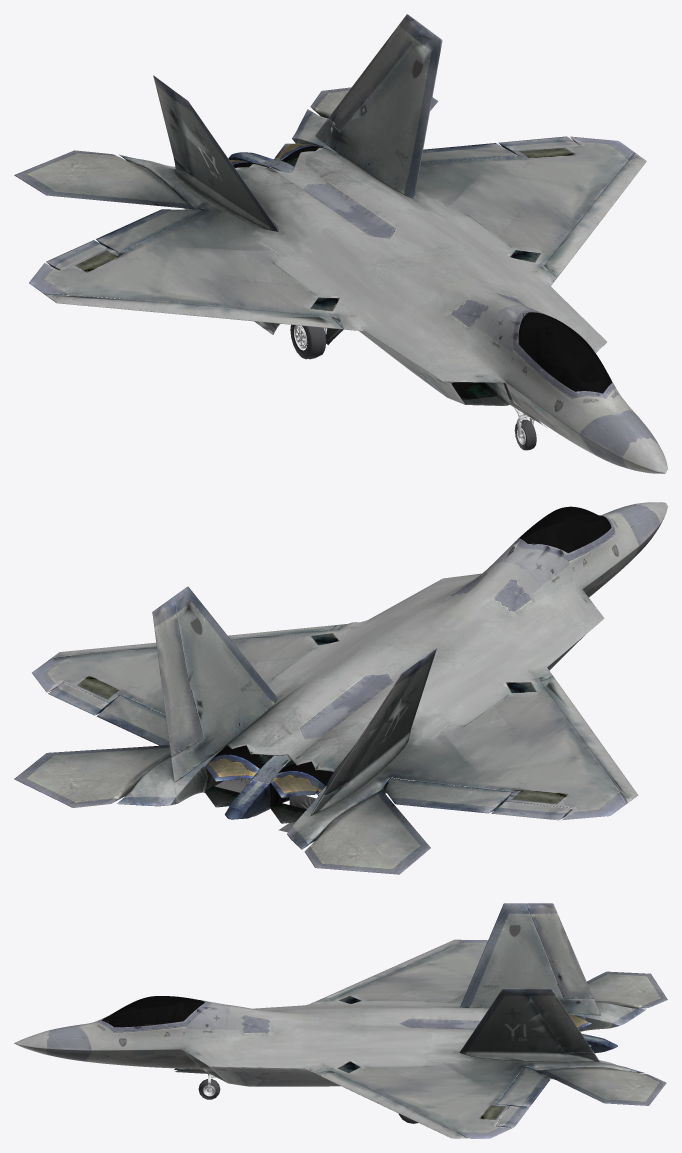
The model's file is zhanji.glb.
3 views of the same model, one above another, from view 1: azimuth 30°, elevation 25°; view 2: azimuth 150°, elevation 25°; view 3: azimuth 270°, elevation 25° (orthographic). The views are drawn at different scales.
Visible parts, largest first — view 1: zhuti, boli, lun03; view 2: zhuti, boli; view 3: zhuti, boli.
Part boxes in pixels (x1,y1,x2,y2): zhuti: (14,14,667,473); boli: (518,312,612,393); lun03: (290,324,326,359); zhuti: (14,502,667,874); boli: (519,506,611,552); zhuti: (14,903,667,1138); boli: (102,996,204,1027).
Size of the model in its own units: 1706 by 616 by 2375.
Materials: 9 (1 with a texture image).
